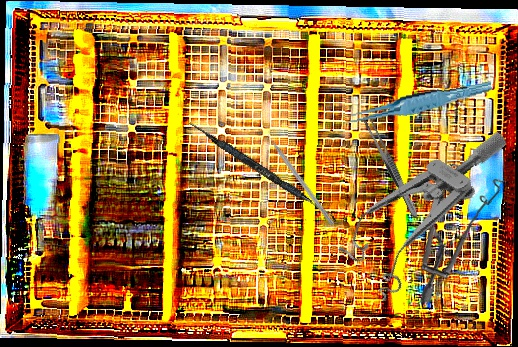Chopper: (261, 124, 341, 227)
Dressing Forceps: (360, 114, 423, 222)
Spatula Surgical: (185, 120, 341, 222)
Speculum: (326, 92, 510, 314), (407, 158, 515, 305)
Tissue Forceps: (338, 80, 494, 126)
